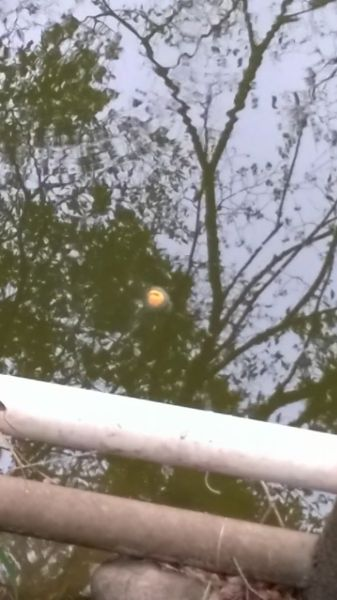eggs: (141, 283, 170, 309)
